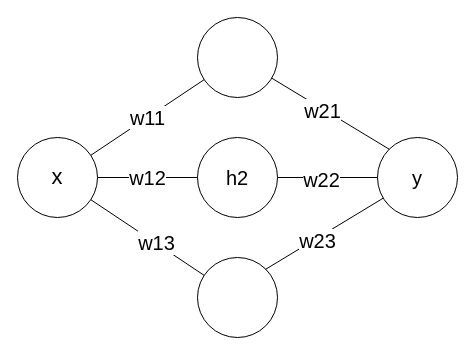
Image size: 475x355. Some labels were removed from this diagram. The shapes that lost their labels are listed below. From the top down, each one's centre as x and y in pixels, then its label:
At pixel 237 57: "h1".
At pixel 237 297: "h3".
